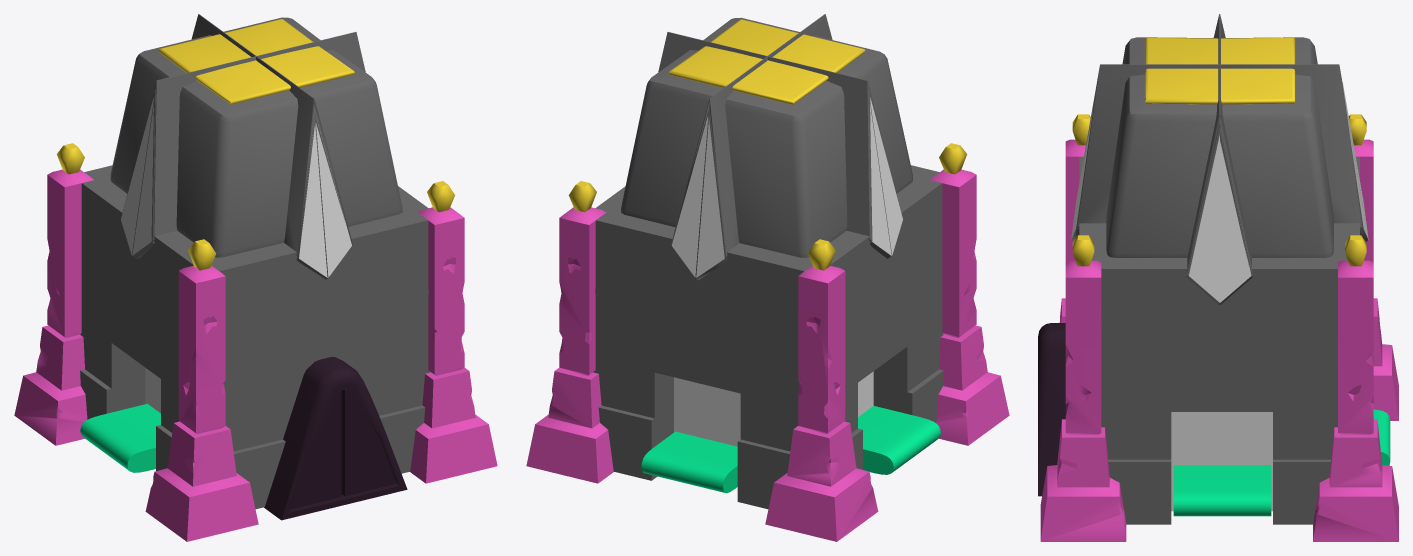
The model's file is Main Tower LV2.fbx.
3 renders of one model, left to right at view 1: azimuth 30°, elevation 25°; view 2: azimuth 150°, elevation 25°; view 3: azimuth 270°, elevation 25°, orthographic. The views are drawn at different scales.
Visible parts, largest first — view 1: Cube.004; view 2: Cube.004; view 3: Cube.004.
Part boxes in pixels (x1,y1,x2,y2): Cube.004: (14,14,497,541); Cube.004: (526,14,1009,541); Cube.004: (1038,14,1398,541).
Bounding box in the file's own units: 254 × 305 × 246.
